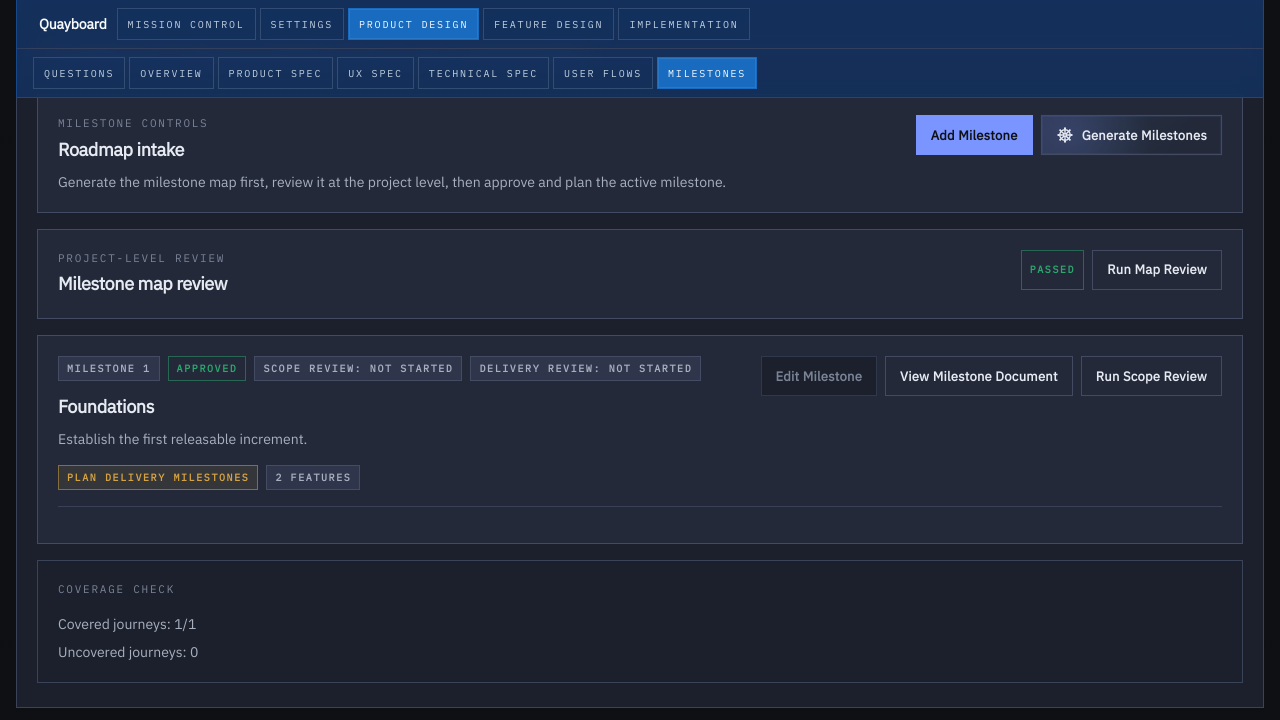
workflow pages › renders milestone planning with design-doc approval controls
(page scrolled)
Check: the button "Generate Milestones" is shown, box [1041,115,1222,155]
Click the button "View Milestone Document" at (979, 376), box [885,356,1073,396]
(page scrolled)
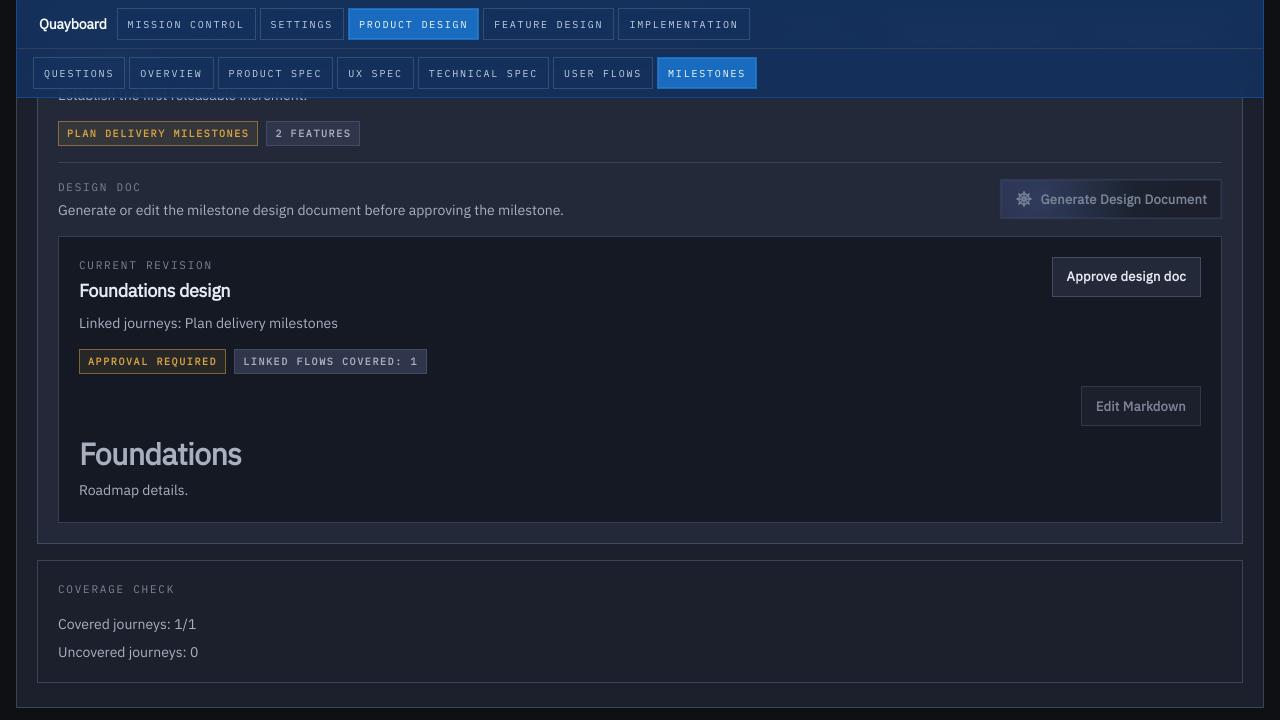
Check: the text "Coverage check" is shown, box [58,582,175,596]
Check: the button "Approve design doc" is shown, box [1052,257,1201,297]
Check: the button "Edit Markdown" is shown, box [1081,386,1201,426]
